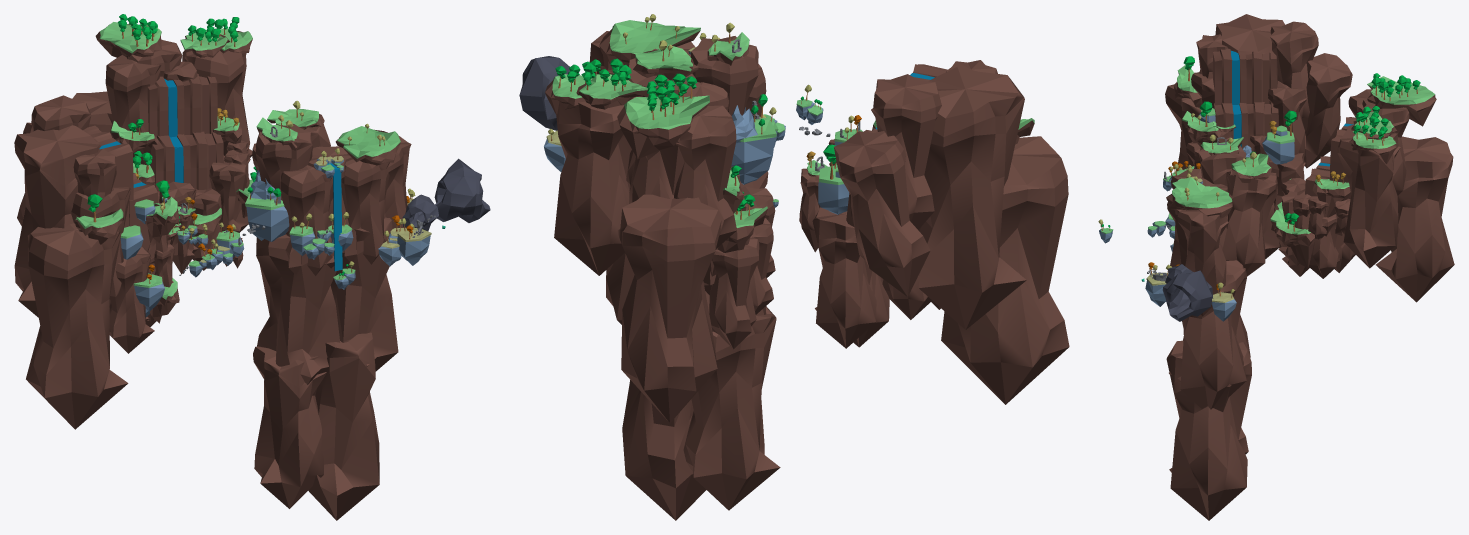
File: LowPolyWaterfall.fbx
The picture shows the model from 3 angles, left to right: view 1: azimuth 30°, elevation 25°; view 2: azimuth 150°, elevation 25°; view 3: azimuth 270°, elevation 25°; orthographic projection. The views are drawn at different scales.
Parts seen in each view (by area): view 1: CliffWall38, CliffWall34, CliffWall28, CliffWall27, CliffWall42, CliffWall33, CliffWall32, CliffWall25, CliffWall20, CliffWall10, CliffWall22, RockTunnel1 (+34 smaller); view 2: CliffWall42, CliffWall21, CliffWall38, CliffWall28, CliffWall22, CliffWall47, CliffWall34, CliffWall40, CliffWall36, CliffWall20, CliffWall41, GrassIsland19 (+18 smaller); view 3: CliffWall34, CliffWall21, CliffWall33, CliffWall22, CliffWall30, CliffWall47, CliffWall31, CliffWall36, RockTunnel1, CliffWall42, GrassIsland15, GrassIsland19 (+31 smaller).
Part boxes in pixels (left/top/right/bottom): CliffWall38: left=26, top=223, right=128, bottom=429; CliffWall34: left=308, top=332, right=379, bottom=520; CliffWall28: left=253, top=346, right=326, bottom=508; CliffWall27: left=256, top=234, right=340, bottom=384; CliffWall42: left=14, top=125, right=101, bottom=317; CliffWall33: left=330, top=217, right=398, bottom=371; CliffWall32: left=341, top=159, right=389, bottom=264; CliffWall25: left=280, top=165, right=334, bottom=275; CliffWall20: left=105, top=55, right=161, bottom=162; CliffWall10: left=109, top=247, right=154, bottom=353; CliffWall22: left=182, top=50, right=252, bottom=157; RockTunnel1: left=434, top=158, right=490, bottom=222; CliffWall42: left=918, top=66, right=1026, bottom=329; CliffWall21: left=617, top=194, right=721, bottom=422; CliffWall38: left=941, top=136, right=1069, bottom=404; CliffWall28: left=683, top=306, right=780, bottom=510; CliffWall22: left=554, top=96, right=642, bottom=275; CliffWall47: left=834, top=131, right=930, bottom=296; CliffWall34: left=622, top=380, right=705, bottom=520; CliffWall40: left=812, top=207, right=876, bottom=348; CliffWall36: left=871, top=74, right=941, bottom=229; CliffWall20: left=674, top=105, right=736, bottom=248; CliffWall41: left=709, top=238, right=759, bottom=349; GrassIsland19: left=617, top=95, right=709, bottom=159; CliffWall34: left=1166, top=340, right=1251, bottom=520; CliffWall21: left=1375, top=136, right=1454, bottom=302; CliffWall33: left=1169, top=260, right=1246, bottom=409; CliffWall22: left=1337, top=128, right=1400, bottom=268; CliffWall30: left=1222, top=169, right=1277, bottom=276; CliffWall47: left=1304, top=53, right=1352, bottom=168; CliffWall31: left=1177, top=209, right=1228, bottom=316; CliffWall36: left=1270, top=21, right=1318, bottom=131; RockTunnel1: left=1162, top=269, right=1213, bottom=321; CliffWall42: left=1215, top=14, right=1284, bottom=54; GrassIsland15: left=1166, top=177, right=1233, bottom=218; GrassIsland19: left=1367, top=76, right=1436, bottom=126.
Bounding box in the file's own units: 901 × 879 × 707.
